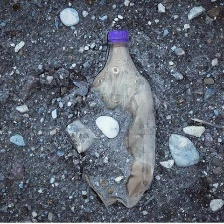bottle: (75, 23, 160, 213)
